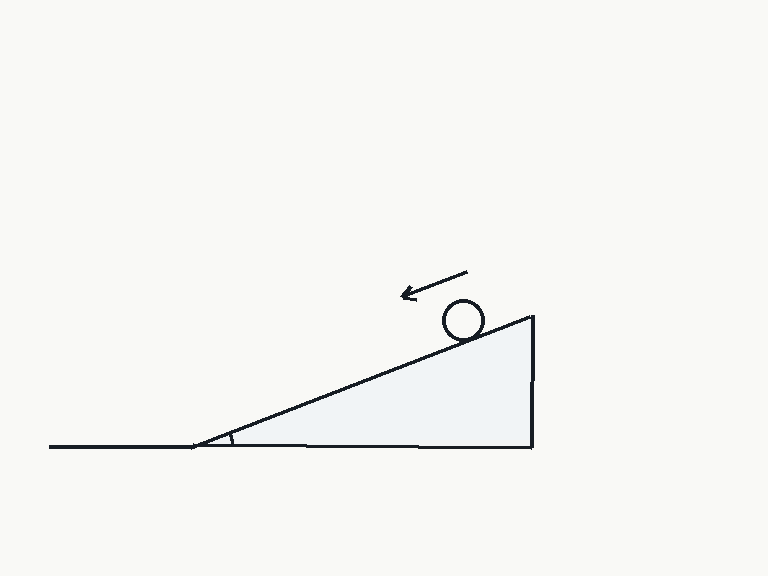ball: (440, 297, 486, 343)
ramp: (190, 314, 534, 448)
